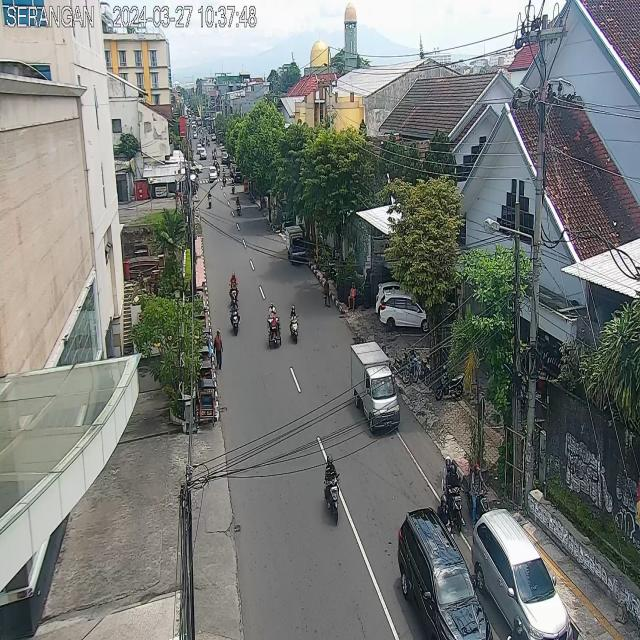car: (472, 510, 575, 640), (396, 504, 488, 640), (208, 166, 218, 182)
motorcycle: (440, 455, 464, 529), (467, 462, 490, 525), (323, 452, 341, 526), (437, 494, 456, 548), (228, 268, 240, 305), (290, 302, 300, 344), (230, 300, 240, 334), (235, 195, 242, 216), (207, 190, 213, 210), (222, 172, 227, 187), (231, 178, 235, 194), (216, 162, 220, 178), (222, 165, 226, 177)
truck: (351, 341, 400, 432), (287, 224, 305, 265)
